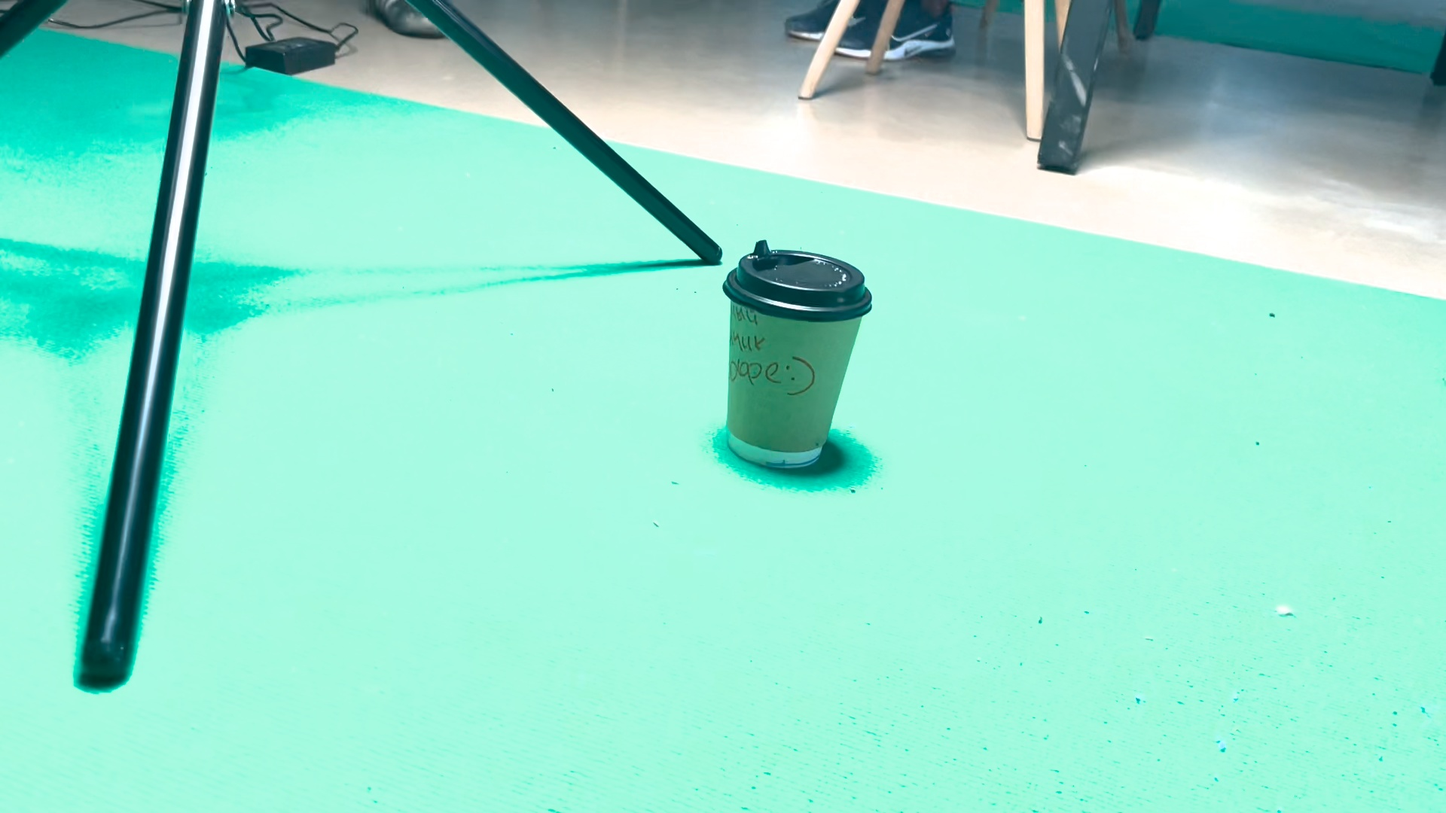cup: (751, 406, 840, 522)
